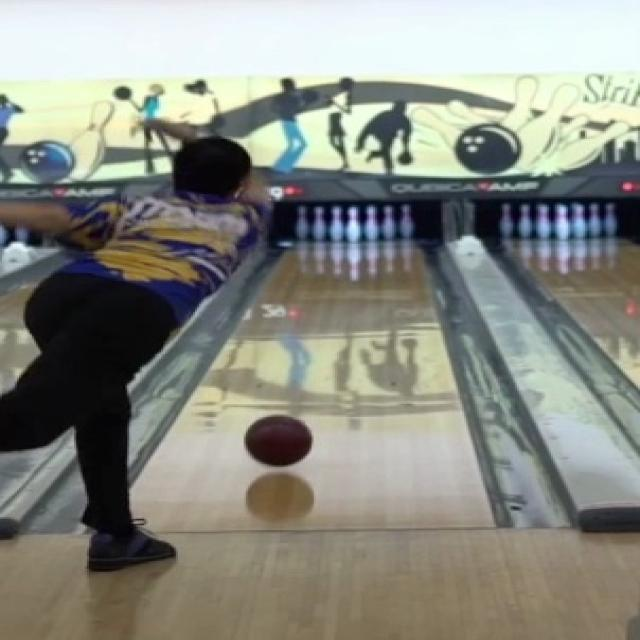alley: (134, 244, 492, 530)
balls: (246, 415, 312, 465)
bottle: (297, 204, 417, 239)
